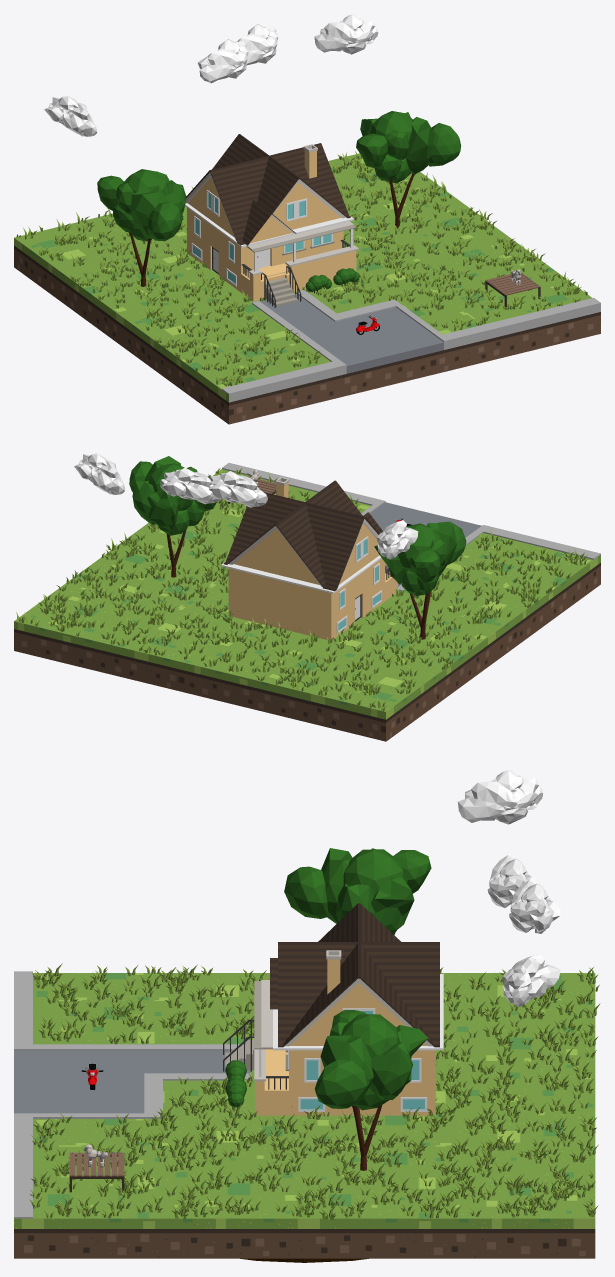
3 views of the same model, one above another, from view 1: azimuth 30°, elevation 25°; view 2: azimuth 150°, elevation 25°; view 3: azimuth 270°, elevation 25° (orthographic). The views are drawn at different scales.
Parts seen in each view (by area): view 1: Cube.006, Cube.235, Circle.012_Grass_0.192, Cube.007, tree, tree.001, Cube.009; view 2: Cube.006, Cube.235, Circle.012_Grass_0.192, Cube.007, tree.001, tree; view 3: Cube.006, Circle.012_Grass_0.192, Cube.235, tree, Cube.007, tree.001, Cube.009.
Part boxes in pixels (x1,y1,x2,y2): Cube.006: (14, 153, 600, 424); Cube.235: (185, 134, 358, 307); Circle.012_Grass_0.192: (16, 151, 587, 386); Cube.007: (44, 14, 378, 136); tree: (356, 111, 460, 228); tree.001: (97, 169, 186, 286); Cube.009: (485, 273, 540, 306); Cube.006: (14, 463, 600, 741); Cube.235: (221, 477, 397, 640); Circle.012_Grass_0.192: (16, 468, 587, 711); Cube.007: (74, 453, 418, 559); tree.001: (374, 521, 466, 639); tree: (129, 456, 216, 577); Cube.006: (14, 971, 595, 1258); Circle.012_Grass_0.192: (29, 963, 600, 1219); Cube.235: (223, 903, 443, 1115); tree: (314, 1010, 427, 1170); Cube.007: (457, 770, 560, 1006); tree.001: (284, 848, 431, 934); Cube.009: (69, 1152, 124, 1192).
Bounding box in the file's own units: 4071 × 2242 × 4040.
33 materials, 3 textured.
